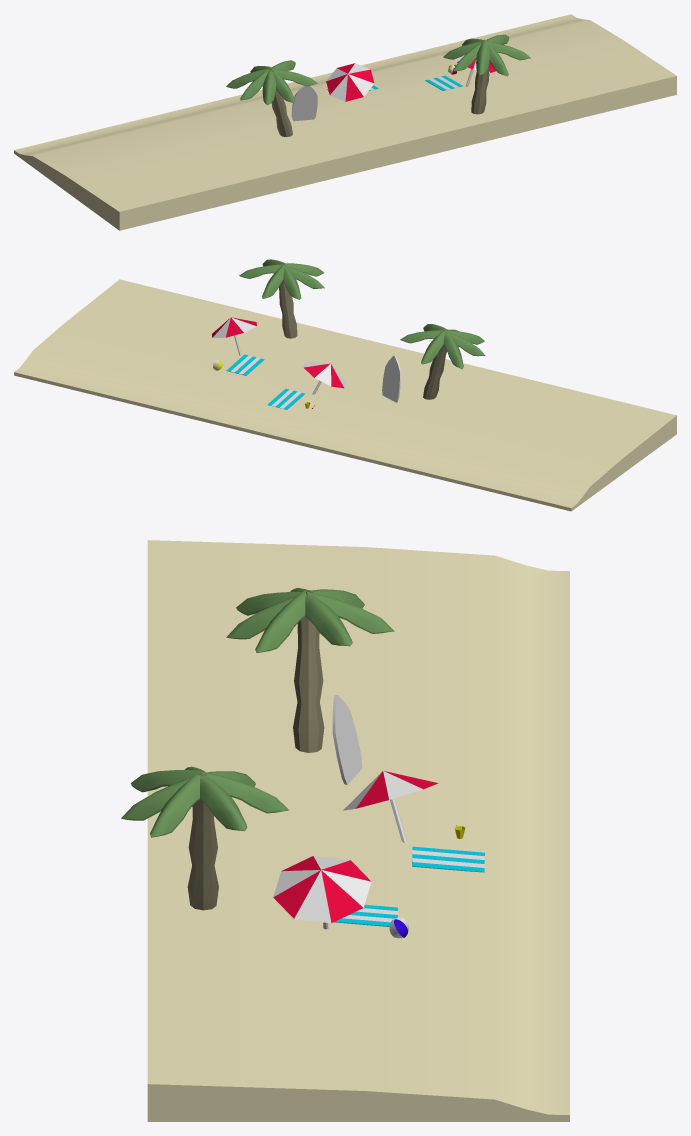
The model's file is beach2.fbx.
3 views of the same model, one above another, from view 1: azimuth 30°, elevation 25°; view 2: azimuth 150°, elevation 25°; view 3: azimuth 270°, elevation 25° (orthographic). The views are drawn at different scales.
Parts seen in each view (by area): view 1: sandMound, pCone1, pCylinder3 (×2), pCylinder2, pCube5 (×2), pCube7 (×2), pCube3; view 2: sandMound, pCylinder3 (×2), pCone1 (×2), pCylinder2, towel3, towel2, pCube6, pCube1; view 3: sandMound, pCone1 (×2), pCylinder3 (×2), pCube7 (×2), pCube4 (×2), pCylinder2, towel2, pCube11, pCube2, pCube10, pCube1, pCube5 (+1 smaller).
Boxes of the visible parts, x1,y1,x2,y2 form: sandMound: (14,14,676,230); pCone1: (326,63,374,101); pCylinder3 (×2): (271,40,489,136); pCylinder2: (291,85,317,121); pCube5 (×2): (262,39,490,105); pCube7 (×2): (271,41,530,86); pCube3: (240,68,269,100); sandMound: (14,279,676,511); pCylinder3 (×2): (279,264,446,399); pCone1 (×2): (212,317,345,388); pCylinder2: (382,355,401,402); towel3: (226,354,264,375); towel2: (267,388,305,409); pCube6: (443,331,463,368); pCube1: (421,329,445,364); sandMound: (147,540,569,1121); pCone1 (×2): (273,771,438,923); pCylinder3 (×2): (187,617,324,910); pCube7 (×2): (150,591,305,837); pCube4 (×2): (121,591,312,820); pCylinder2: (332,695,362,784); towel2: (412,846,484,872); pCube11: (200,775,247,831); pCube2: (304,591,352,646); pCube10: (202,772,288,813); pCube1: (306,591,394,633); pCube5: (131,770,204,792).
Bounding box in the file's own units: 47.11 × 7.15 × 16.44.
